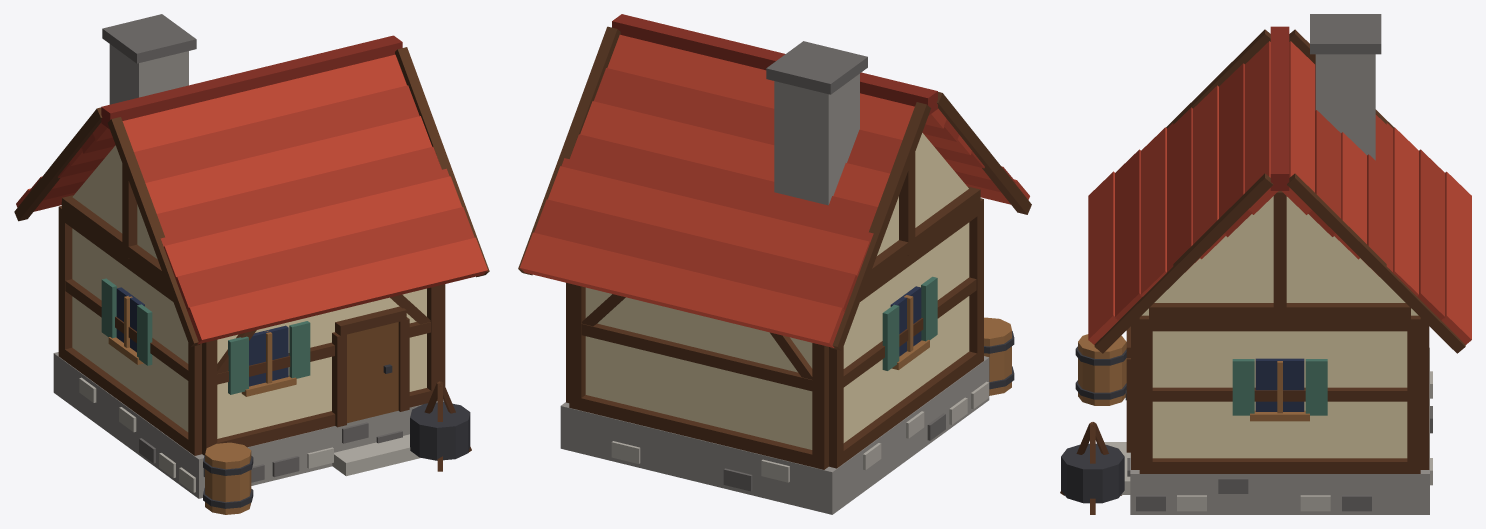
Rendered from kitchen.glb.
3 views of the same model, side by side, from view 1: azimuth 30°, elevation 25°; view 2: azimuth 150°, elevation 25°; view 3: azimuth 270°, elevation 25° (orthographic). The views are drawn at different scales.
Visible parts, largest first — view 1: roof_red, roof_red_mid, timber, plaster, stone, ridge, stone_dark, door, plank, shutter, iron, stone_light (+1 smaller); view 2: roof_red, plaster, timber, roof_red_mid, stone, ridge, stone_dark, stone_light, plank, shutter, window; view 3: plaster, timber, roof_red, roof_red_mid, stone, stone_dark, iron, ridge, plank, shutter, window, stone_light.
Part boxes in pixels (<box>): roof_red: <box>16,54,487,344</box>; roof_red_mid: <box>29,85,474,310</box>; timber: <box>14,47,489,471</box>; plaster: <box>72,145,426,438</box>; stone: <box>53,44,443,498</box>; ridge: <box>101,35,402,129</box>; stone_dark: <box>102,14,402,482</box>; door: <box>347,322,398,423</box>; plank: <box>108,295,296,514</box>; shutter: <box>101,278,310,394</box>; iron: <box>203,364,470,508</box>; stone_light: <box>79,377,420,492</box>; roof_red: <box>520,34,1029,347</box>; plaster: <box>585,133,969,449</box>; timber: <box>518,26,1031,469</box>; roof_red_mid: <box>534,68,1015,311</box>; stone: <box>560,73,989,514</box>; ridge: <box>612,14,937,115</box>; stone_dark: <box>723,41,945,491</box>; stone_light: <box>611,381,989,482</box>; plank: <box>892,295,1011,395</box>; shutter: <box>882,276,937,370</box>; window: <box>890,286,921,356</box>; plaster: <box>1142,196,1418,458</box>; timber: <box>1060,29,1465,514</box>; roof_red: <box>1088,41,1471,344</box>; roof_red_mid: <box>1115,63,1445,320</box>; stone: <box>1130,54,1429,514</box>; stone_dark: <box>1127,14,1432,511</box>; iron: <box>1061,346,1126,503</box>; ridge: <box>1270,26,1289,190</box>; plank: <box>1078,334,1309,421</box>; shutter: <box>1232,359,1327,415</box>; window: <box>1255,358,1304,411</box>; stone_light: <box>1104,371,1432,511</box>.
Size of the model in its own units: 1.88 by 2.29 by 2.2.
